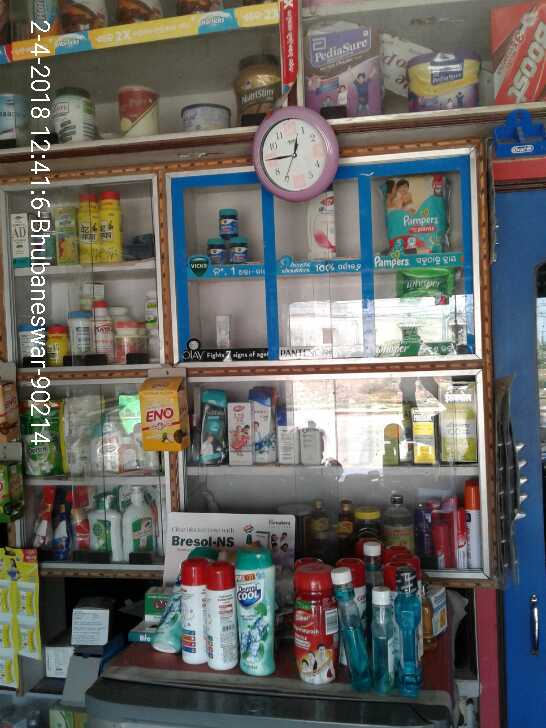oralcare: (333, 563, 369, 694), (397, 569, 422, 697), (374, 588, 397, 697)
vicks: (227, 239, 248, 263), (221, 209, 239, 236), (209, 240, 227, 263)
